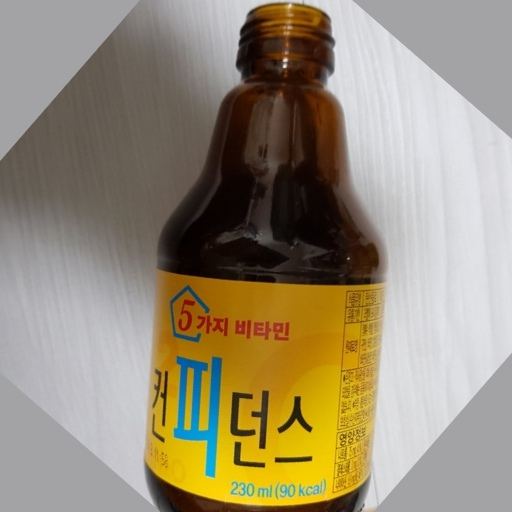Glass_3: (136, 3, 388, 512)
